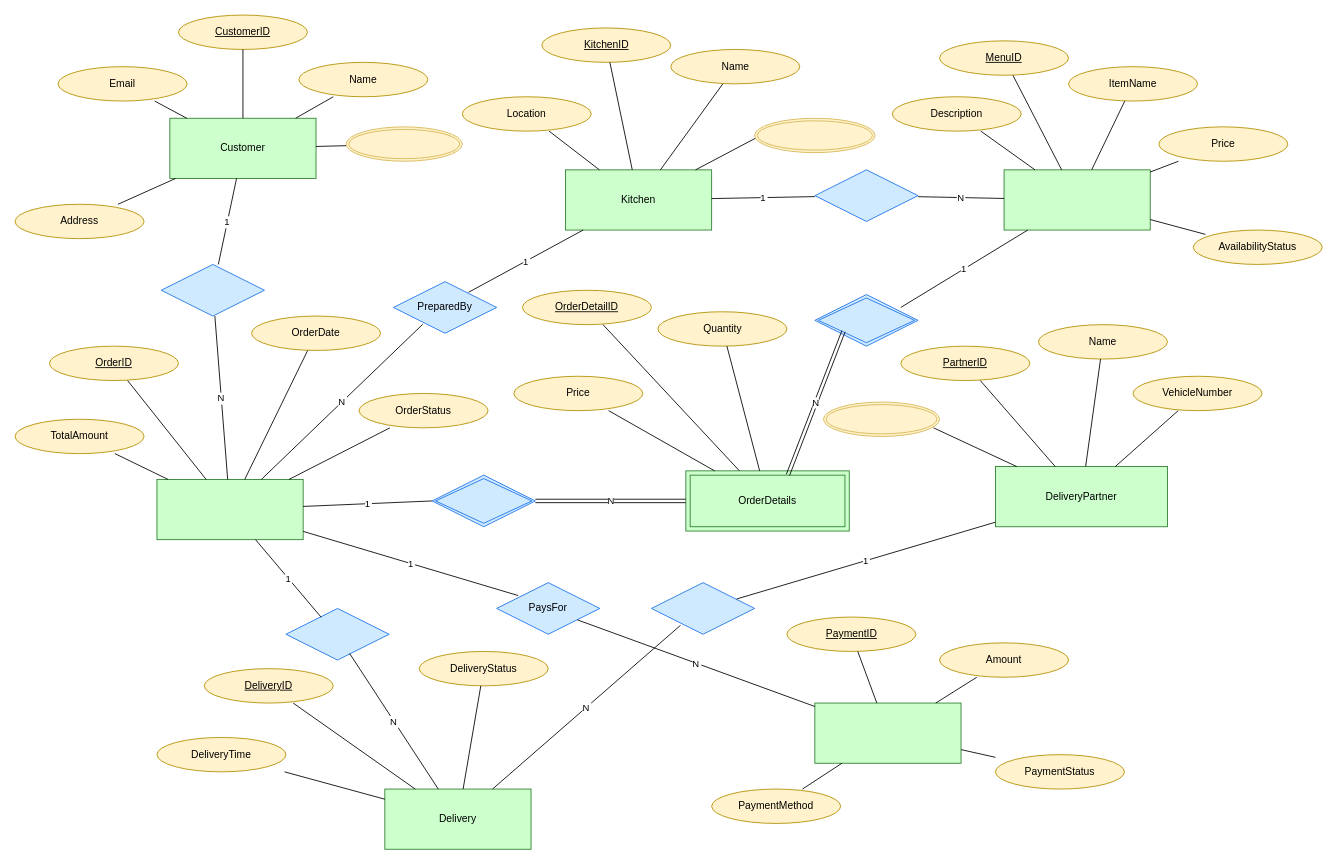
The diagram is 1337 pixels wide and 864 high, and some of its shapes have lost their labels. The centre of each missing label's shape, as x and y in pixels:
AssignedTo: (x=703, y=608)
Contains: (x=483, y=500)
DContactNumber: (x=881, y=418)
Fulfills: (x=337, y=634)
Includes: (x=866, y=320)
KContactNumber: (x=814, y=135)
Menu: (x=1076, y=199)
Offers: (x=866, y=195)
Order: (x=229, y=509)
Payment: (x=887, y=732)
Phone: (x=403, y=143)
Places: (x=212, y=290)
